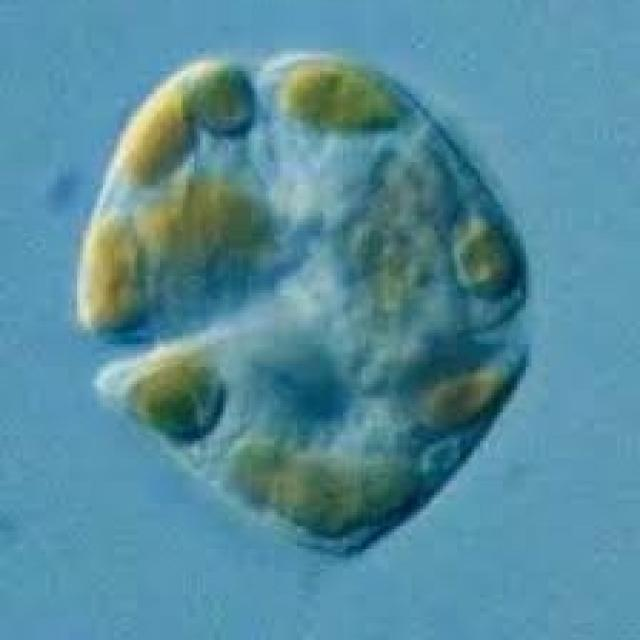Karenia: (67, 59, 537, 555)
